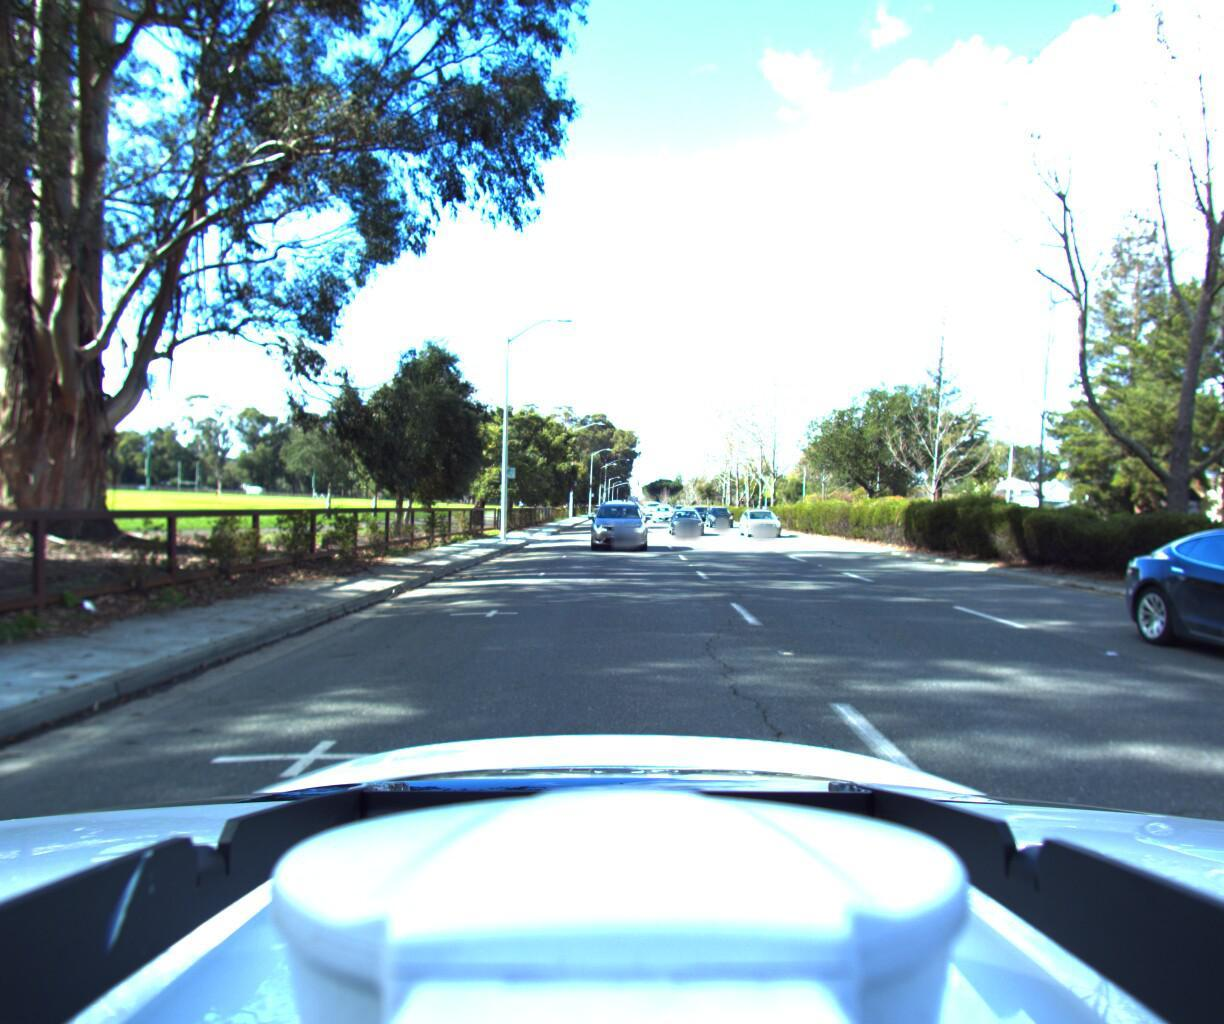car: (1154, 510, 1224, 798), (586, 496, 646, 551), (739, 507, 789, 538), (669, 507, 710, 538), (707, 503, 740, 528), (651, 504, 673, 522)
